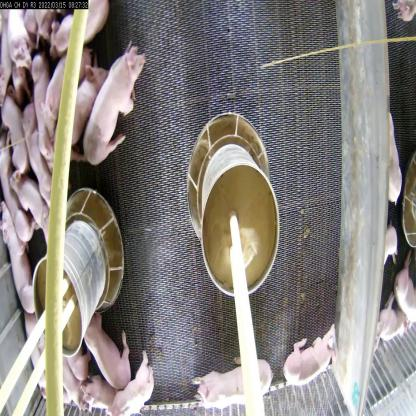Pig: (86, 41, 146, 170), (75, 311, 137, 398), (193, 360, 274, 416), (59, 57, 111, 143), (0, 197, 34, 317), (0, 133, 33, 247), (102, 352, 158, 416), (282, 320, 338, 382), (12, 166, 50, 251), (30, 49, 56, 165), (23, 108, 52, 212), (49, 3, 107, 51), (0, 96, 28, 192), (39, 61, 72, 140), (80, 365, 121, 406)
